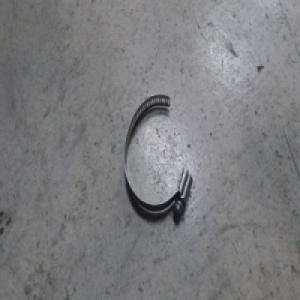AdjustableClamp: (121, 95, 192, 222)
